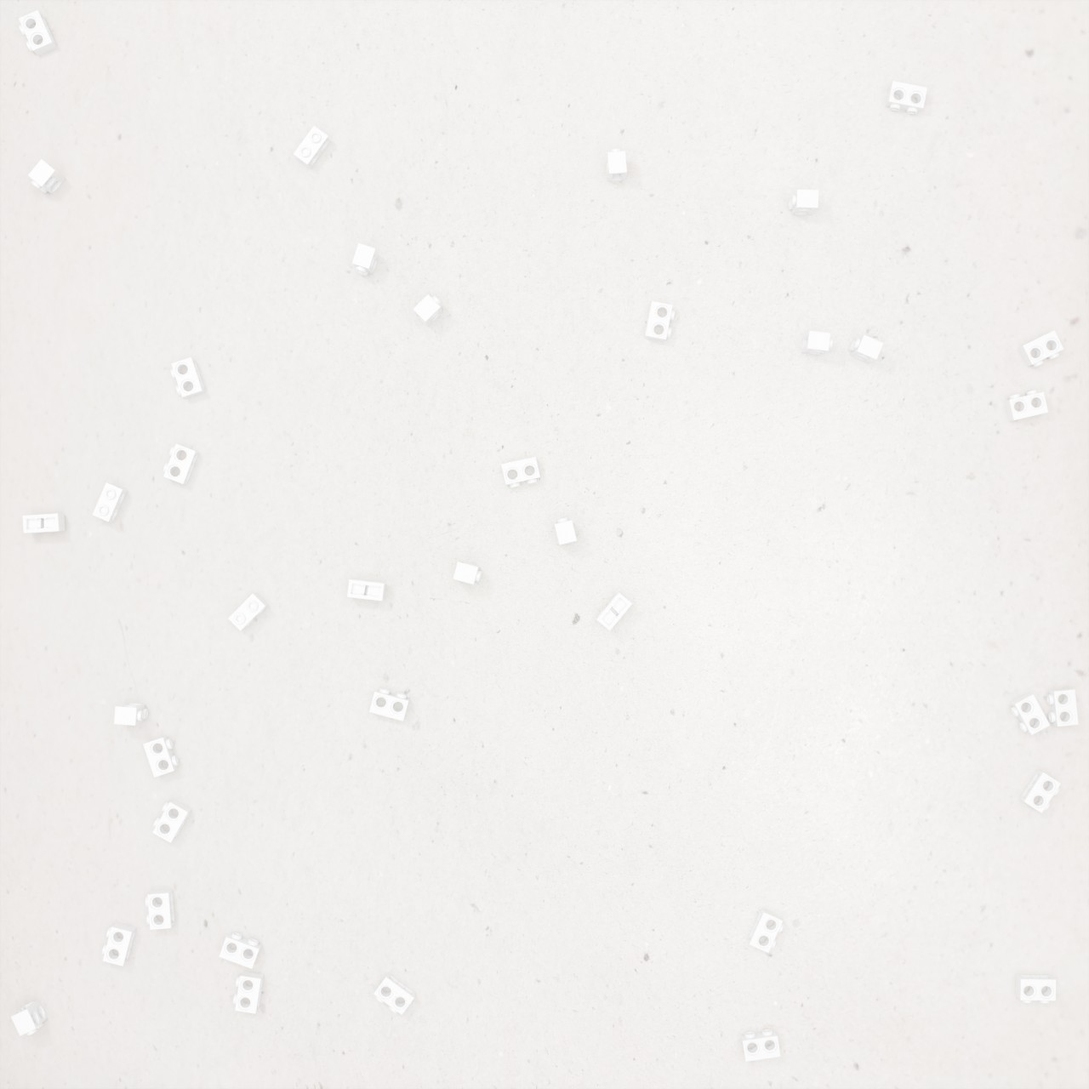lego: (373, 972, 416, 1015), (18, 10, 58, 56), (1019, 770, 1061, 813), (152, 799, 192, 843), (1017, 330, 1064, 367), (1010, 692, 1050, 735), (293, 125, 331, 170), (747, 908, 784, 953), (219, 932, 262, 969), (228, 593, 269, 631), (143, 735, 179, 778), (163, 444, 200, 485), (170, 357, 206, 399), (102, 923, 137, 966), (596, 592, 633, 631), (92, 482, 128, 522), (885, 81, 928, 114), (1004, 390, 1048, 422), (11, 999, 48, 1036), (28, 159, 66, 195), (740, 1029, 781, 1062), (369, 688, 410, 721), (233, 971, 264, 1014), (644, 301, 675, 342), (501, 456, 540, 488), (1047, 688, 1079, 727), (145, 889, 175, 930), (1015, 974, 1056, 1003), (849, 335, 884, 364), (413, 294, 443, 327), (352, 243, 379, 276), (22, 513, 66, 533), (347, 579, 386, 601), (788, 189, 819, 215), (114, 703, 148, 726), (801, 331, 833, 355), (453, 561, 482, 585), (606, 149, 627, 182), (554, 517, 577, 545)
